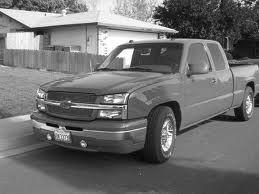car: (26, 34, 259, 167)
